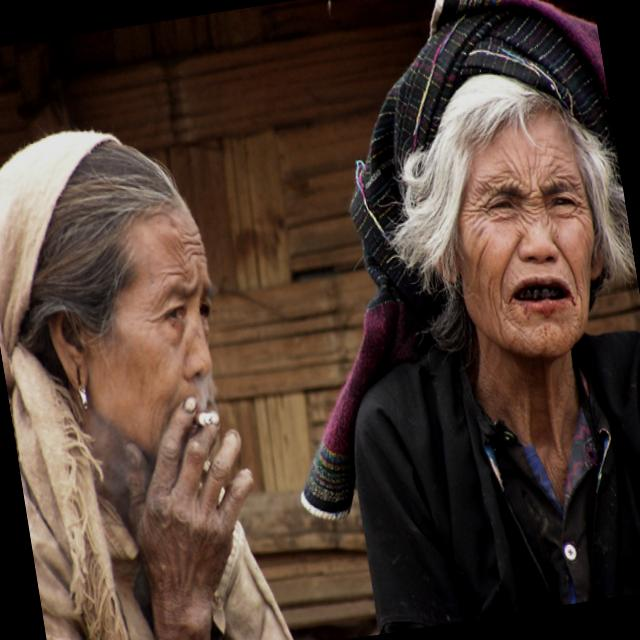smoke: (192, 408, 221, 431)
